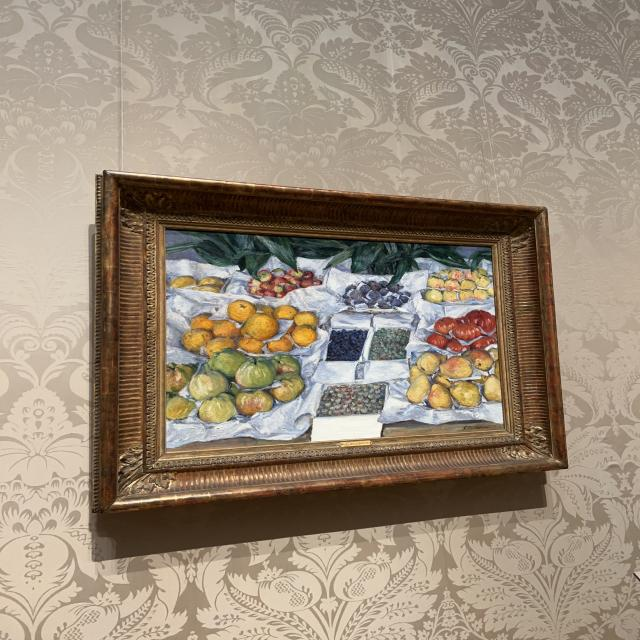fruits: (166, 229, 504, 450)
